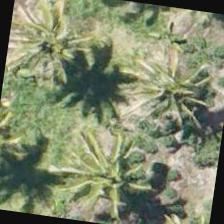Kelapa_Sawit: (124, 35, 223, 138), (62, 128, 165, 223), (3, 0, 104, 91)
